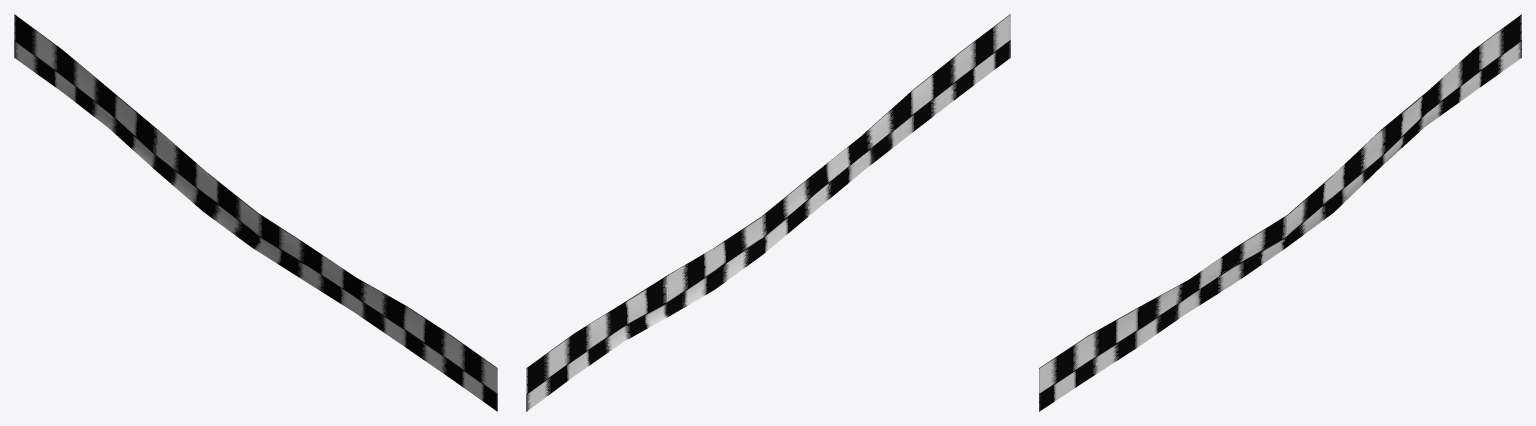
File: Faixa_Chegada2.fbx
The picture shows the model from 3 angles, left to right: view 1: azimuth 30°, elevation 25°; view 2: azimuth 150°, elevation 25°; view 3: azimuth 330°, elevation 25°; orthographic projection.
Visible parts, largest first — view 1: Plane; view 2: Plane; view 3: Plane.
Boxes of the visible parts, x1,y1,x2,y2 form: Plane: [14, 14, 497, 411]; Plane: [526, 14, 1010, 411]; Plane: [1039, 14, 1521, 411].
Bounding box in the file's own units: 2.88 × 27.63 × 400.
Materials: 1 (1 with a texture image).
